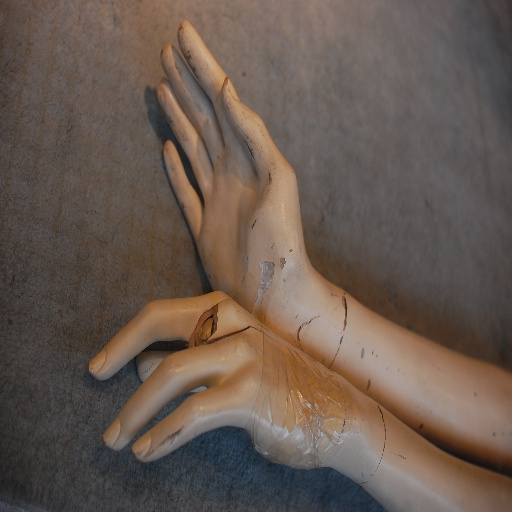hand: (86, 289, 340, 474), (161, 19, 298, 316)
